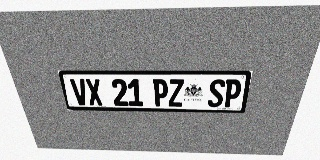1: (126, 79, 143, 106)
2: (111, 79, 129, 106)
P: (223, 79, 243, 107), (153, 79, 168, 106)
S: (207, 79, 226, 107)
V: (70, 79, 89, 105)
X: (85, 79, 103, 106)
Z: (168, 79, 184, 107)
